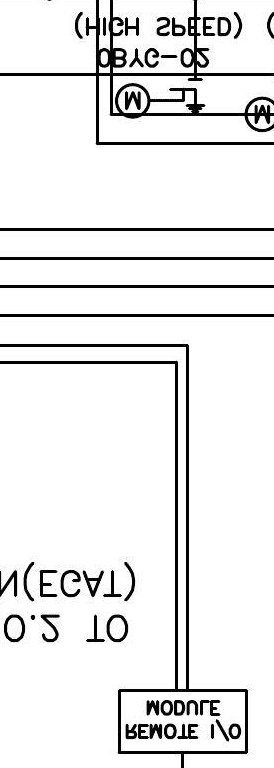115_gs_w_motor: (114, 78, 207, 120)
remote_io_module: (117, 689, 248, 754)
